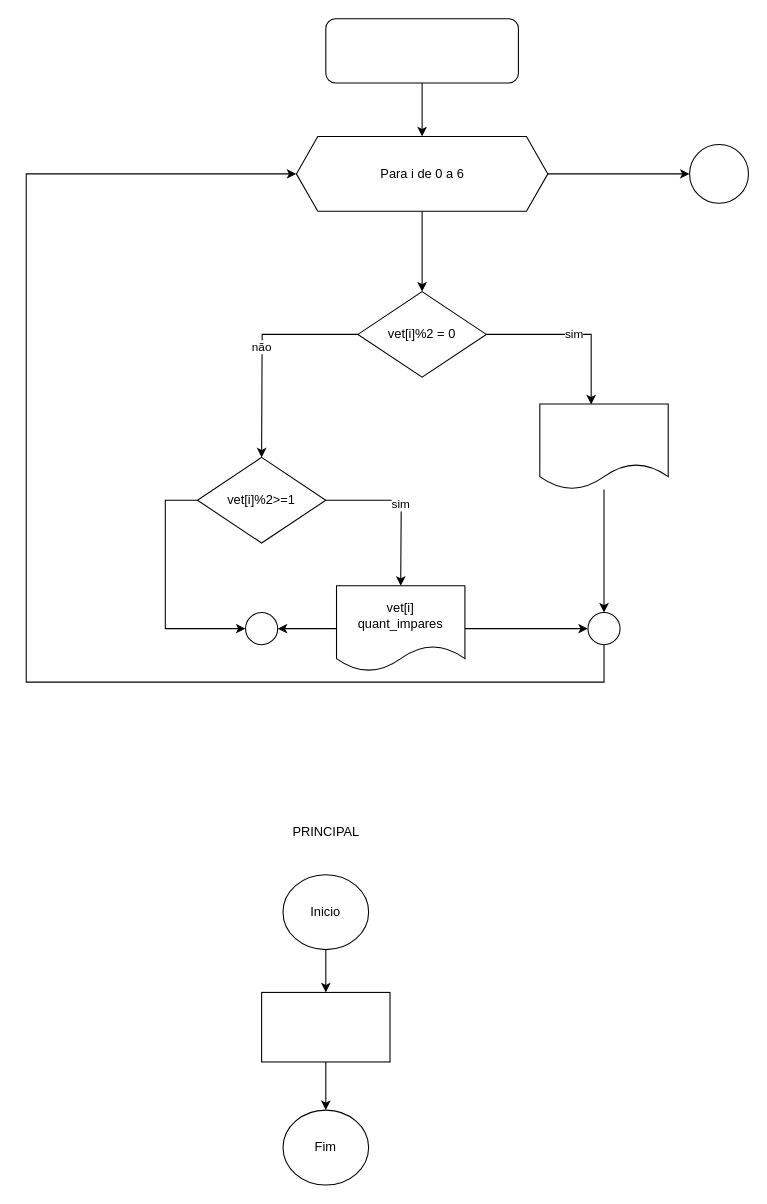
This 767x1204 diagram has some shape labels left out. The shapes that lost their labels are listed below. From the top down, each one's box as (x1, y1, x2, y2) in pixels, then its label:
(325, 18, 518, 83): Quant_num ENTRADAS: vet[10] SAIDAS:quant_pares, quant_impares
(539, 403, 668, 490): vet[i] quant_pares
(261, 991, 390, 1062): Quant_num(num[6])
